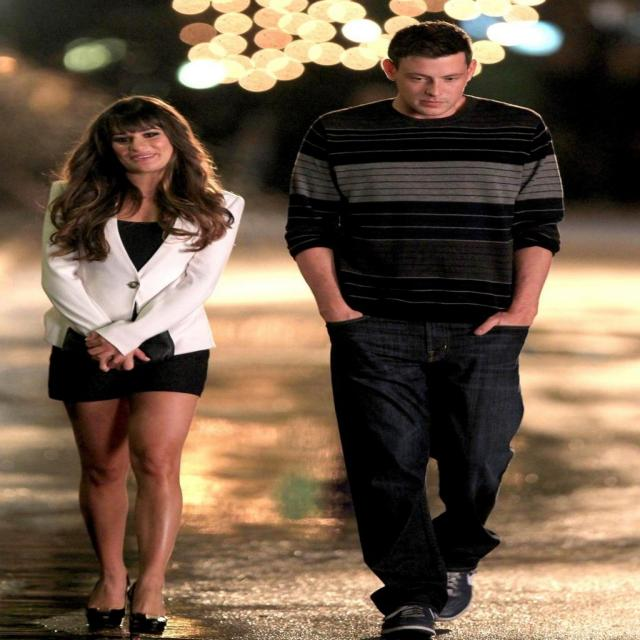nomask: (398, 56, 468, 116), (107, 110, 173, 171)
